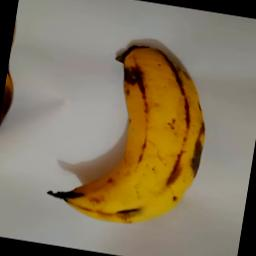Banana Unripe: (41, 31, 222, 238)
